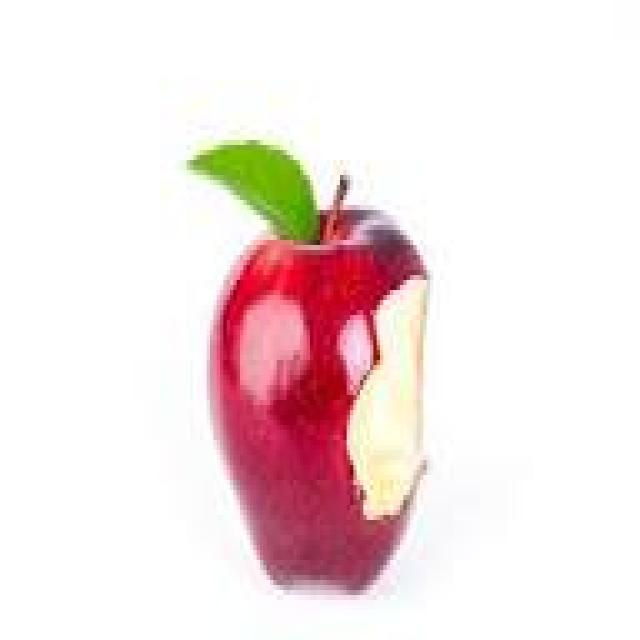Used Apple: (209, 203, 429, 599)
